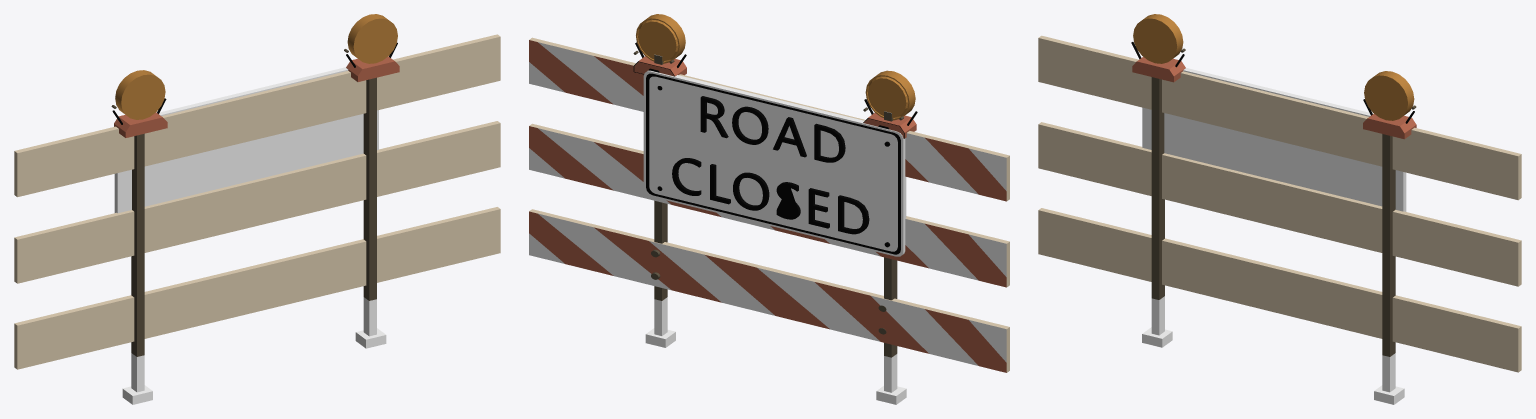
The model's file is Wall 1.fbx.
The picture shows the model from 3 angles, left to right: view 1: azimuth 30°, elevation 25°; view 2: azimuth 150°, elevation 25°; view 3: azimuth 330°, elevation 25°; orthographic projection.
Parts seen in each view (by area): view 1: polySurface101.001; view 2: polySurface101.001; view 3: polySurface101.001.
Boxes of the visible parts, <box> form: polySurface101.001: <box>14,14,500,404</box>; polySurface101.001: <box>529,14,1009,404</box>; polySurface101.001: <box>1038,14,1521,404</box>.
Bounding box in the file's own units: 46.76 × 30.23 × 2.55.
